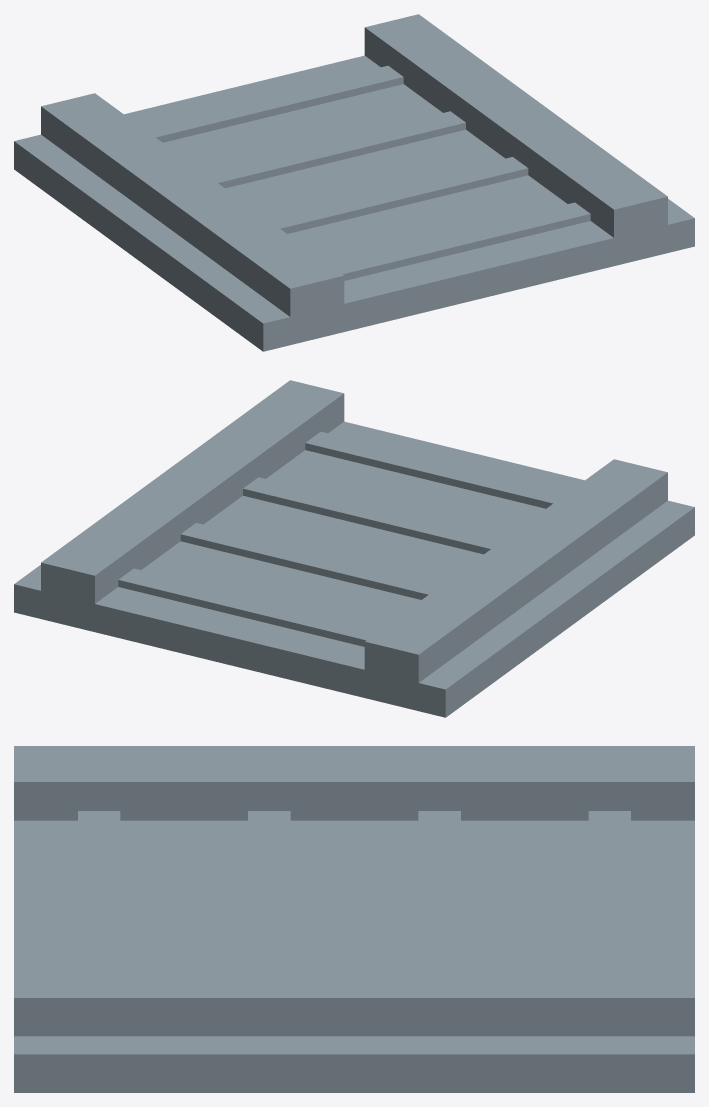
File: floor-strip.glb
3 renders of one model, top to bottom at view 1: azimuth 30°, elevation 25°; view 2: azimuth 150°, elevation 25°; view 3: azimuth 270°, elevation 25°, orthographic. The views are drawn at different scales.
Parts seen in each view (by area): view 1: floor-strip; view 2: floor-strip; view 3: floor-strip.
Part boxes in pixels (x1,y1,x2,y2): floor-strip: (14, 14, 694, 351); floor-strip: (14, 380, 694, 717); floor-strip: (14, 746, 694, 1092).
Bounding box in the file's own units: 2 × 0.25 × 2.
